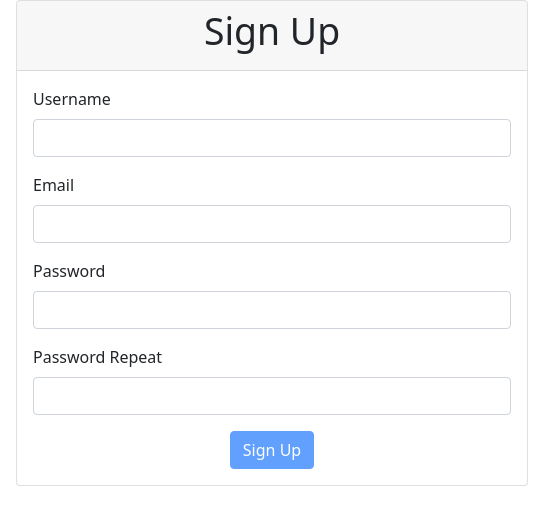
Sign Up page › Interactions › displays E-mail cannot be null for email
Type "Rind" into the field labelled "Username" at coordinates (272, 138), box left=33, top=119, right=511, bottom=157
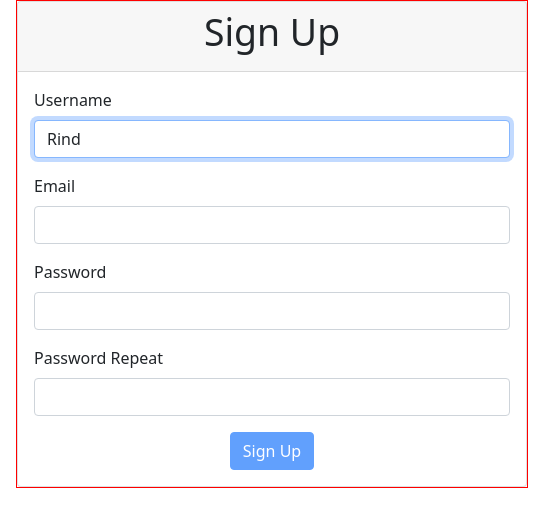
Type "test@mail.io" into the field labelled "Email" at coordinates (272, 225), box left=34, top=206, right=510, bottom=244
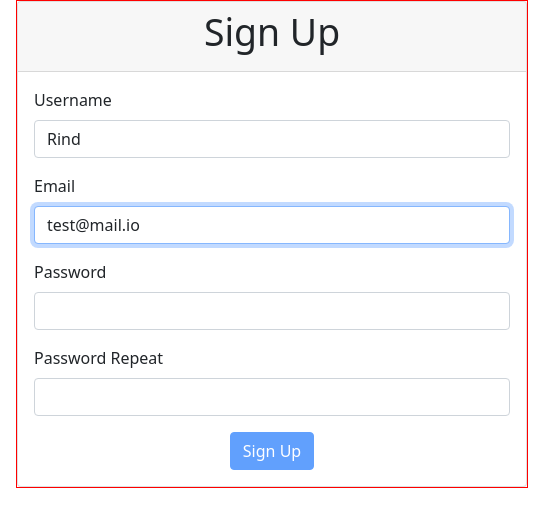
Type "pass123" into the password field labelled "Password" at coordinates (272, 311), box left=34, top=292, right=510, bottom=330
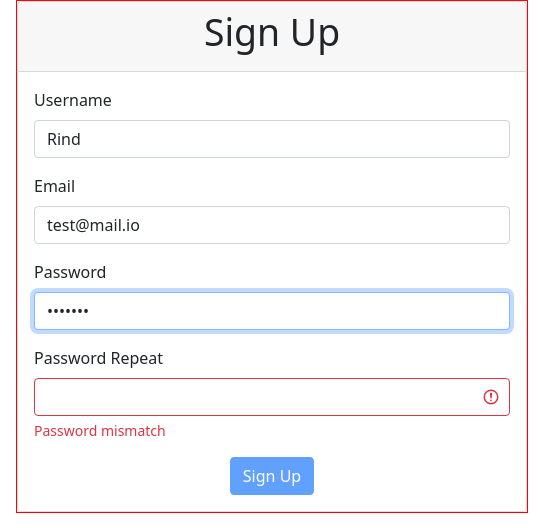
Type "pass123" into the password field labelled "Password Repeat" at coordinates (272, 397), box left=34, top=378, right=510, bottom=416
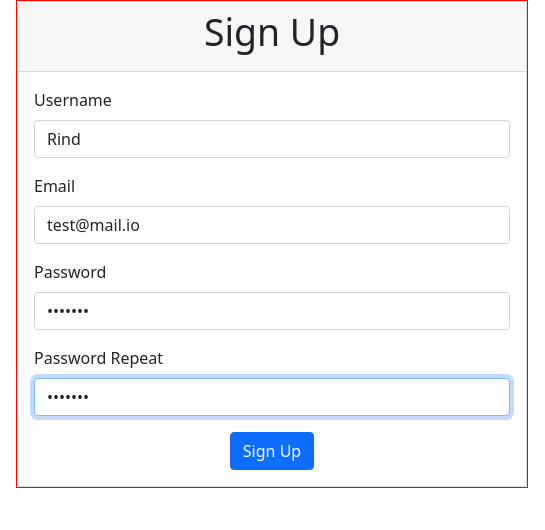
Click the button "Sign Up" at coordinates (272, 451), box left=230, top=432, right=314, bottom=470
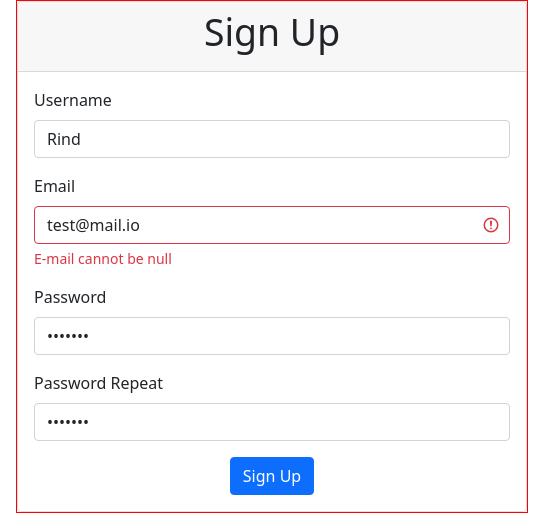
Result: the text "E-mail cannot be null" is shown at left=34, top=249, right=172, bottom=268
